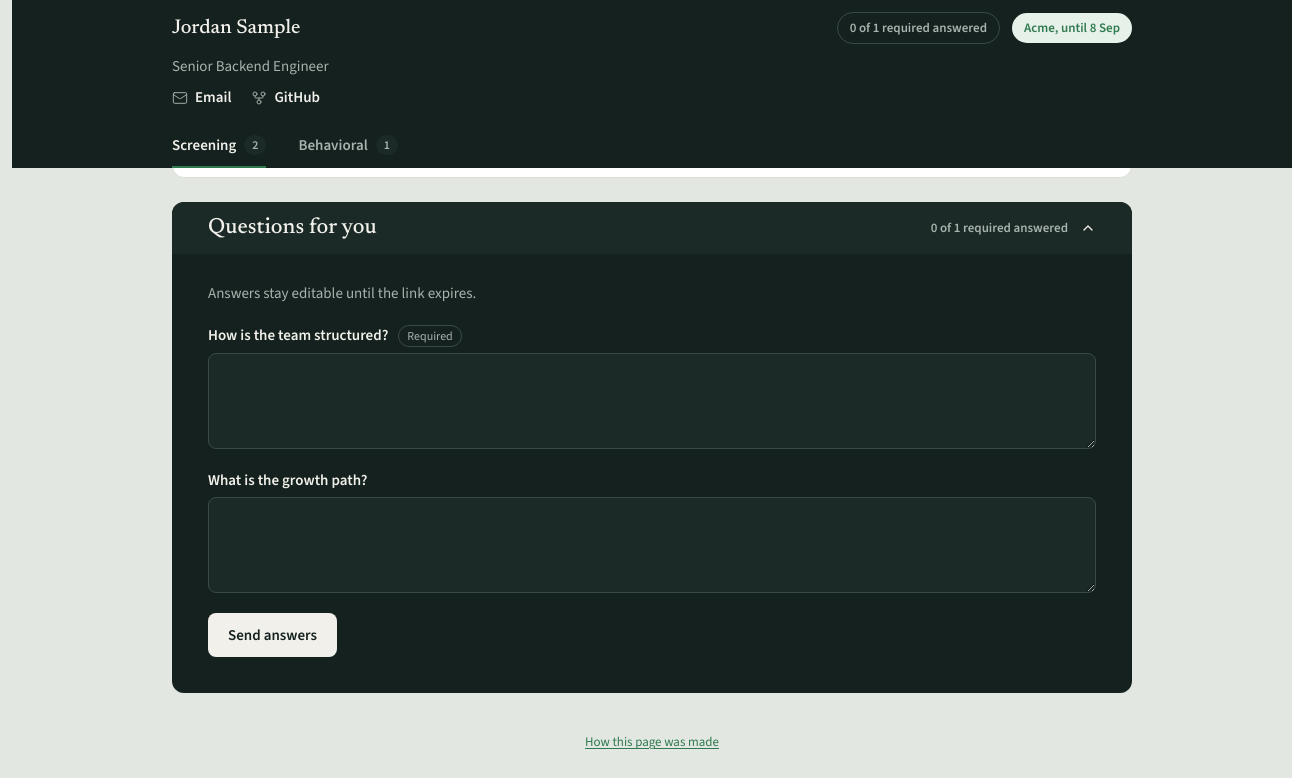
Test: answer drafts and editing › storage failures do not prevent typing or sending
(page scrolled)
Type "Four squads." into the text box labelled "How is the team structured? Required" at [652, 401], box [208, 353, 1096, 449]
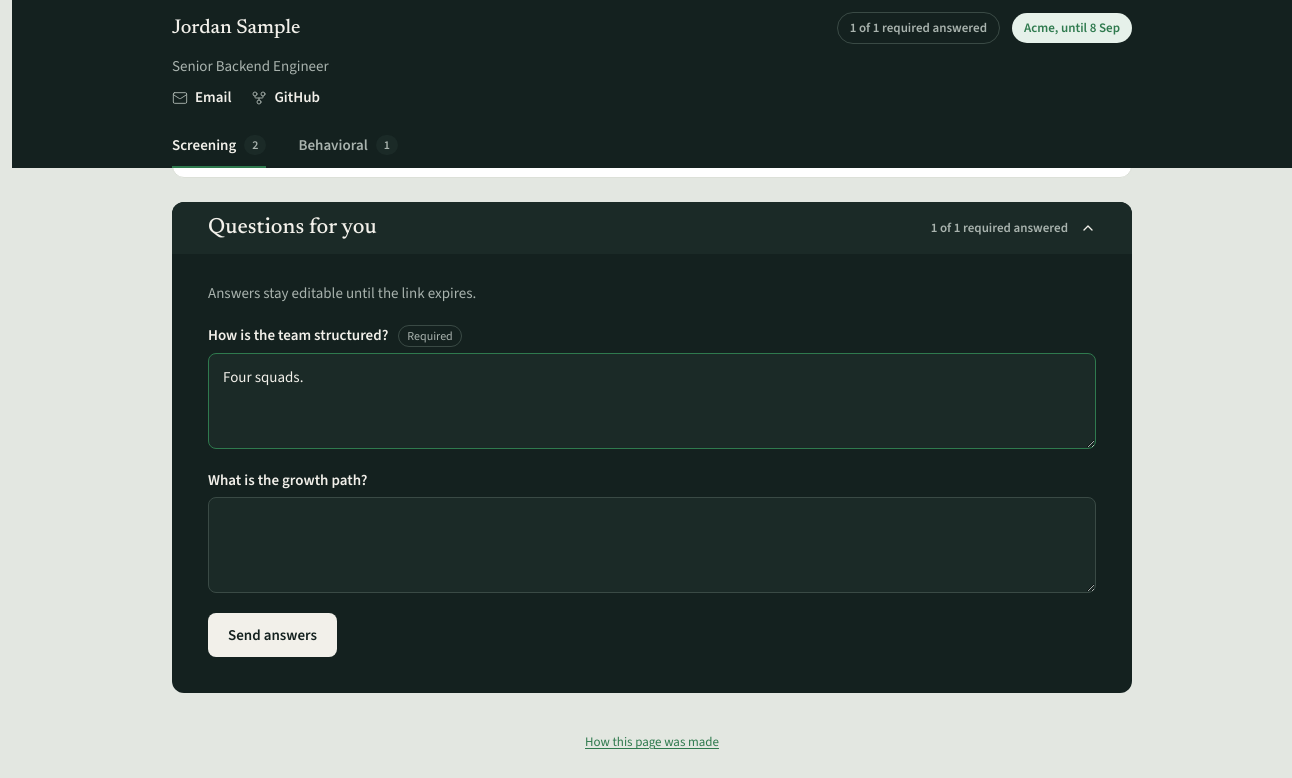
Click the button "Send answers" at [272, 635], box [208, 613, 337, 657]
(page scrolled)
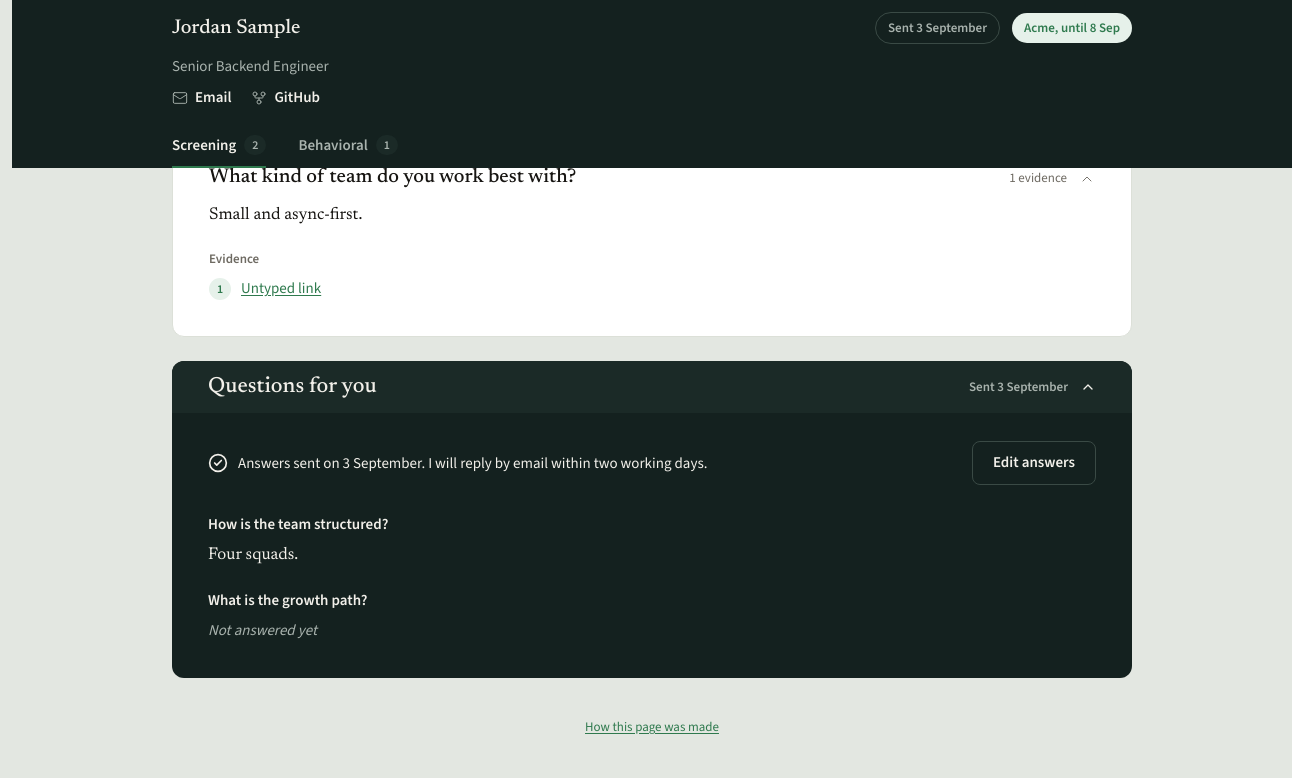
Check: the message shows "Answers sent", box [238, 453, 320, 473]
